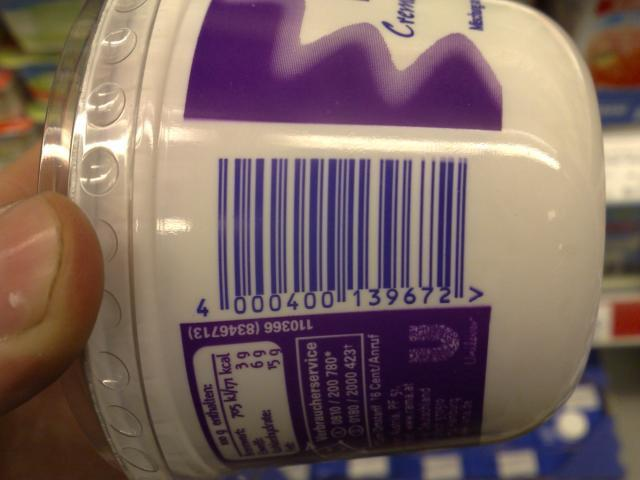Barcode: (180, 141, 499, 326)
